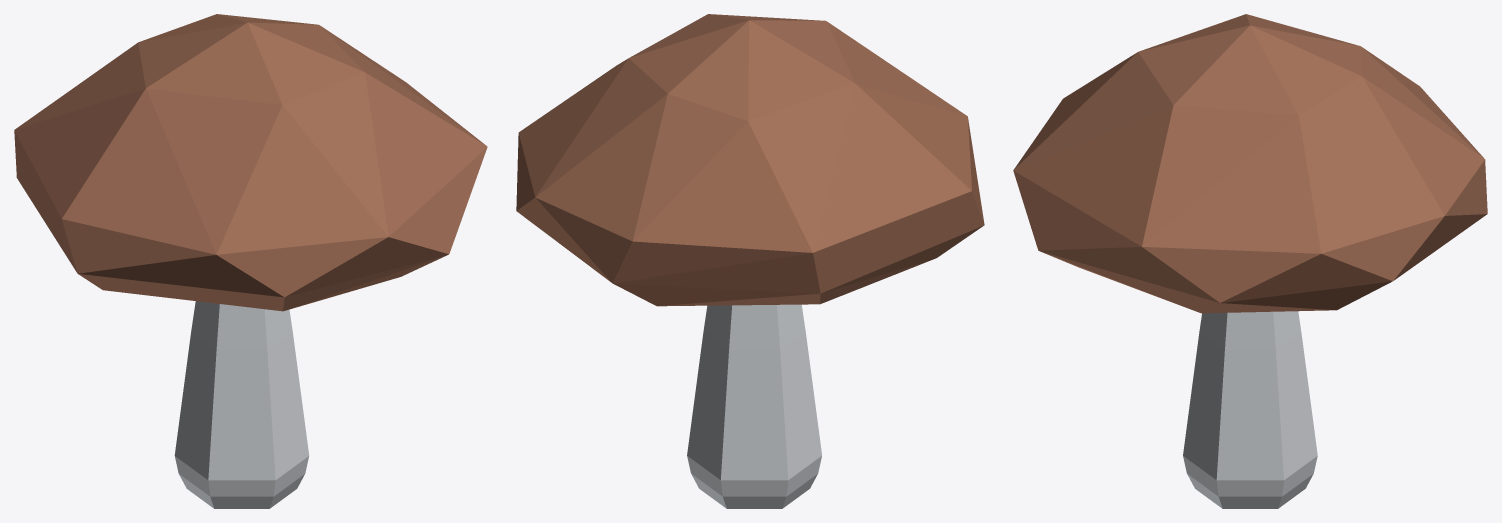
File: Mushroom_1.fbx
3 views of the same model, side by side, from view 1: azimuth 30°, elevation 25°; view 2: azimuth 150°, elevation 25°; view 3: azimuth 270°, elevation 25° (orthographic).
Parts seen in each view (by area): view 1: Mushroom_1; view 2: Mushroom_1; view 3: Mushroom_1.
Boxes of the visible parts, x1=… form: Mushroom_1: x1=14, y1=14, x2=487, y2=508; Mushroom_1: x1=516, y1=14, x2=984, y2=508; Mushroom_1: x1=1013, y1=14, x2=1487, y2=508.
Bounding box in the file's own units: 16.51 × 18.01 × 16.62.
